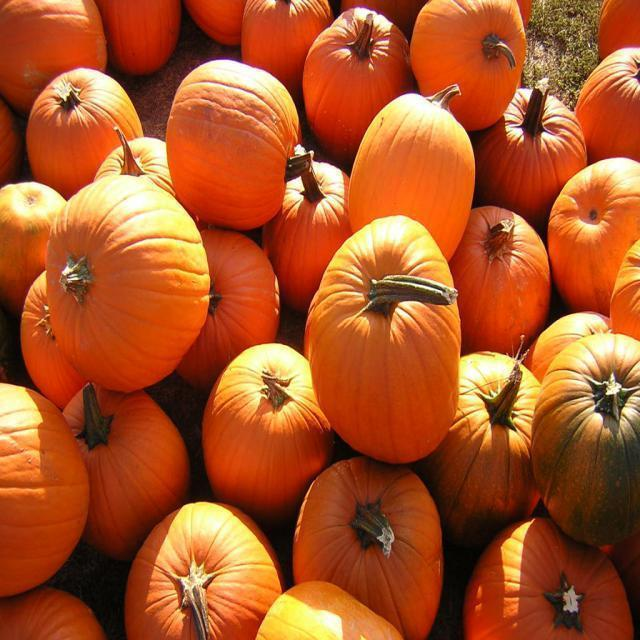Pumpkin: (0, 0, 639, 640), (21, 164, 197, 403), (307, 212, 461, 470)
